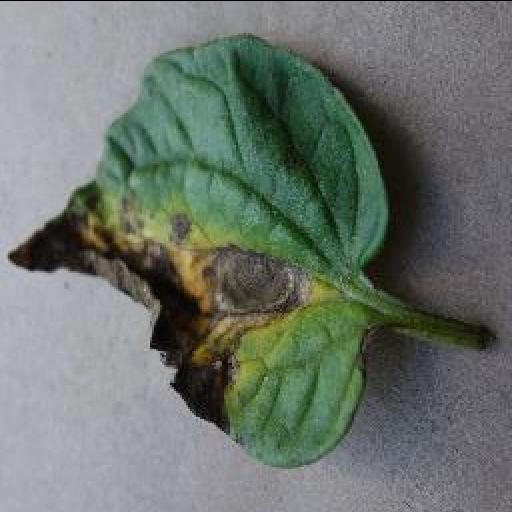disease_tomato: (6, 32, 394, 469)
